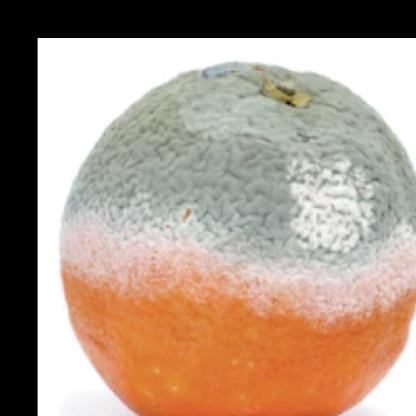rotten: (60, 62, 416, 416)
